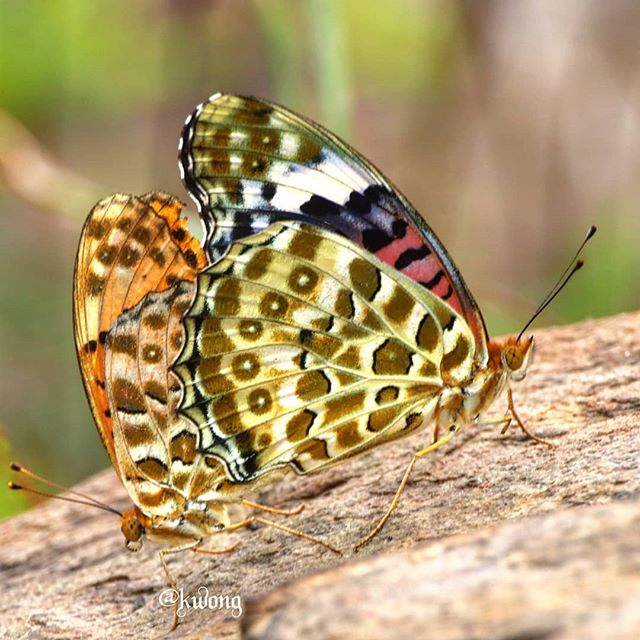Argyreus hyperbius: (170, 84, 600, 548), (7, 181, 340, 619)
butterfly: (172, 86, 602, 550), (9, 183, 342, 621)
